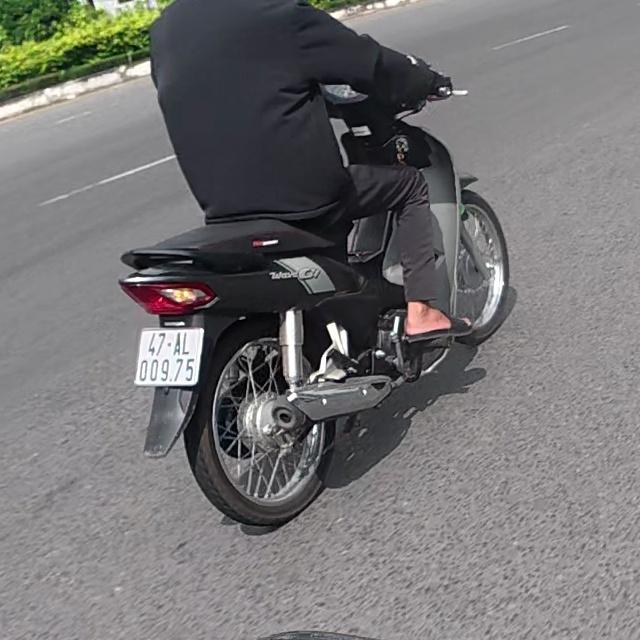license-plate: (133, 327, 205, 387)
